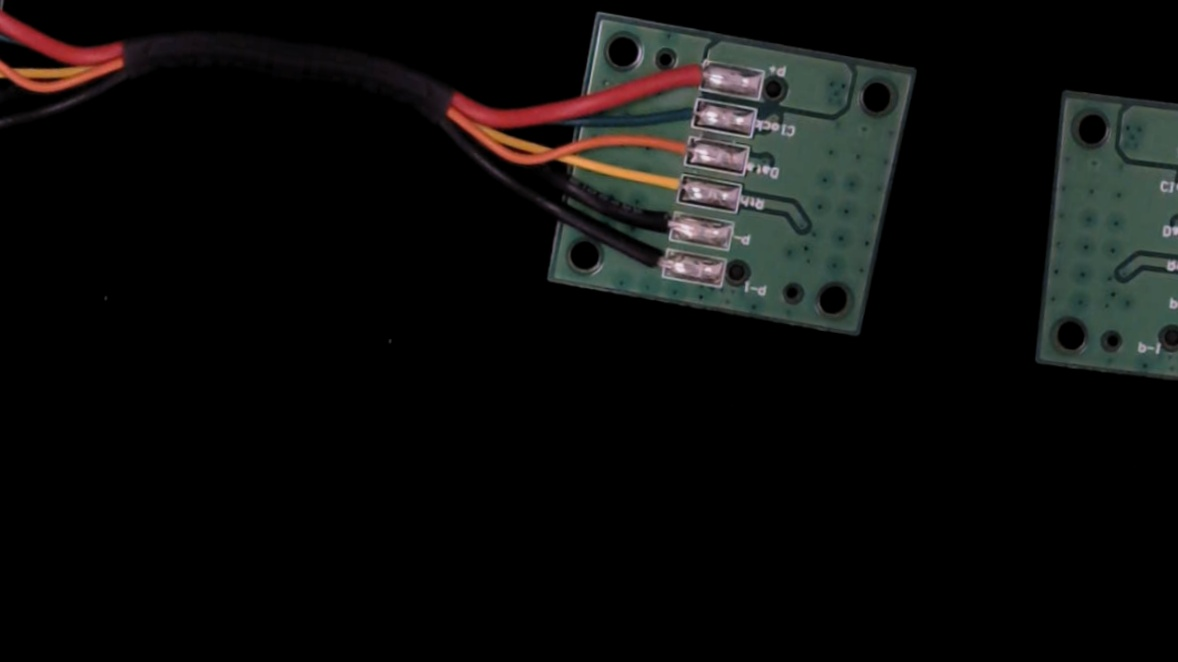Black: (626, 203, 692, 243)
Black1: (614, 237, 687, 281)
Green: (653, 92, 714, 134)
Orange: (642, 128, 706, 164)
Red: (660, 54, 719, 94)
Yellow: (634, 167, 700, 206)
